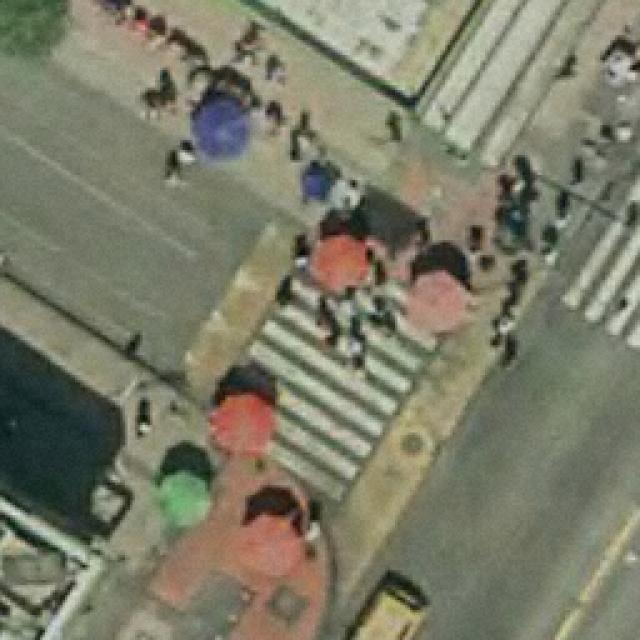vendedor_ambulante: (234, 505, 308, 578), (207, 390, 280, 460), (402, 268, 470, 336), (189, 93, 253, 163), (310, 229, 370, 293), (157, 467, 214, 526)
